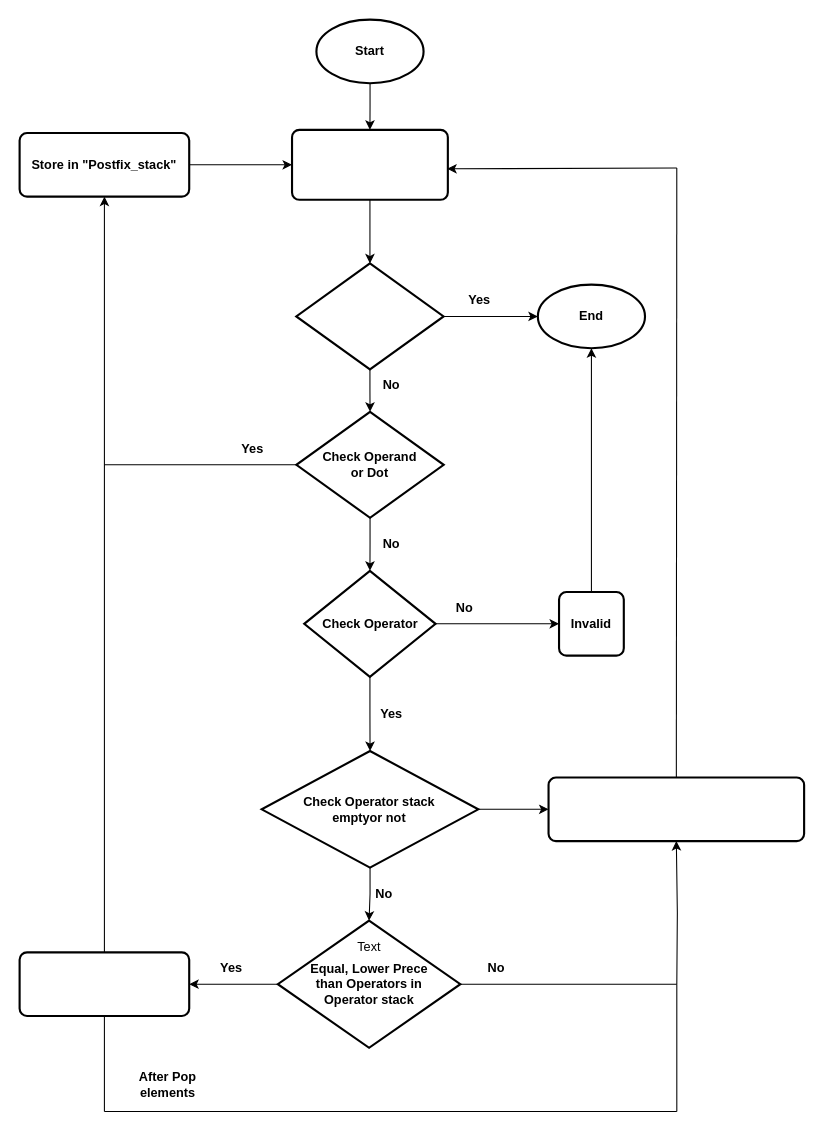
Image size: 824x1131. Some labels were removed from this diagram. The shapes that lost their labels are listed below. From the top down, each one's centre as x and y in pixels, then its label:
(369,164): Scan Symbol
(369,316): Check end of string
(676,809): Store in "Ope_stack"
(104,984): Pop the nearest operators out
